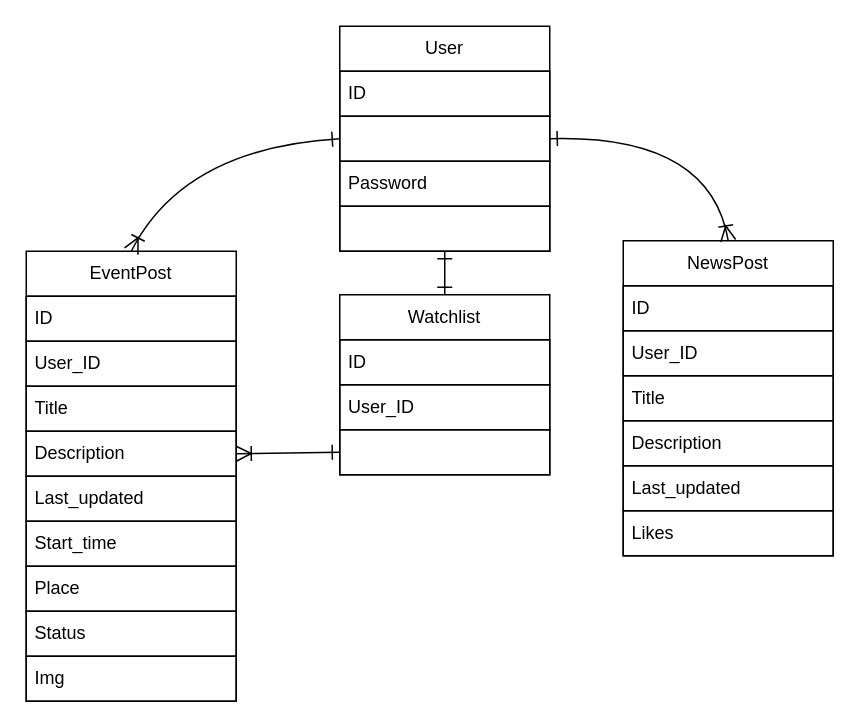
The diagram is 860 pixels wide and 728 high, and some of its shapes have lost their labels. The shapes that lost their labels are listed below. From the top down, each one's centre as x and y in pixels, then its label:
At (x=444, y=138): "Email".
At (x=444, y=228): "Role".
At (x=444, y=451): "EventPost_ID".
